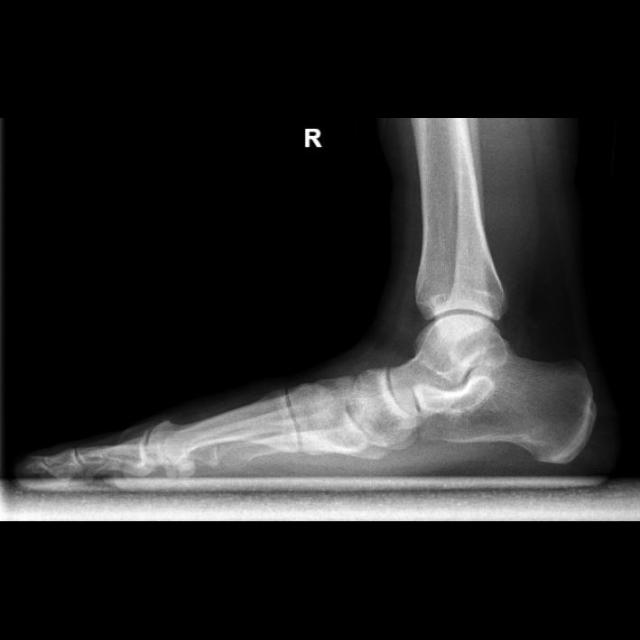a: (419, 353, 596, 464)
b: (348, 367, 418, 450)
c: (147, 389, 294, 471)
